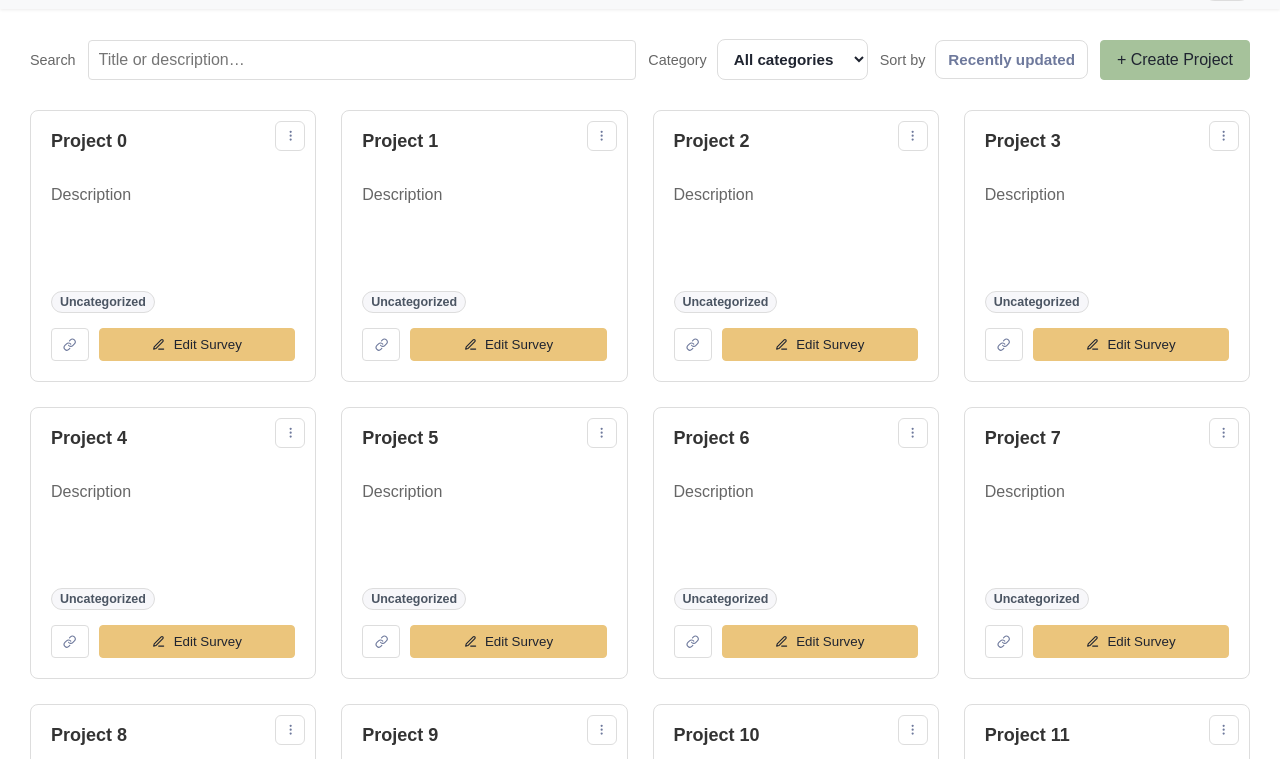
Test: designer survey quota › lets an existing admin create and clone above the limit (50 projects)
Click the button "+ Create Project": (1175, 60) [1100, 40, 1250, 80]
(page scrolled)
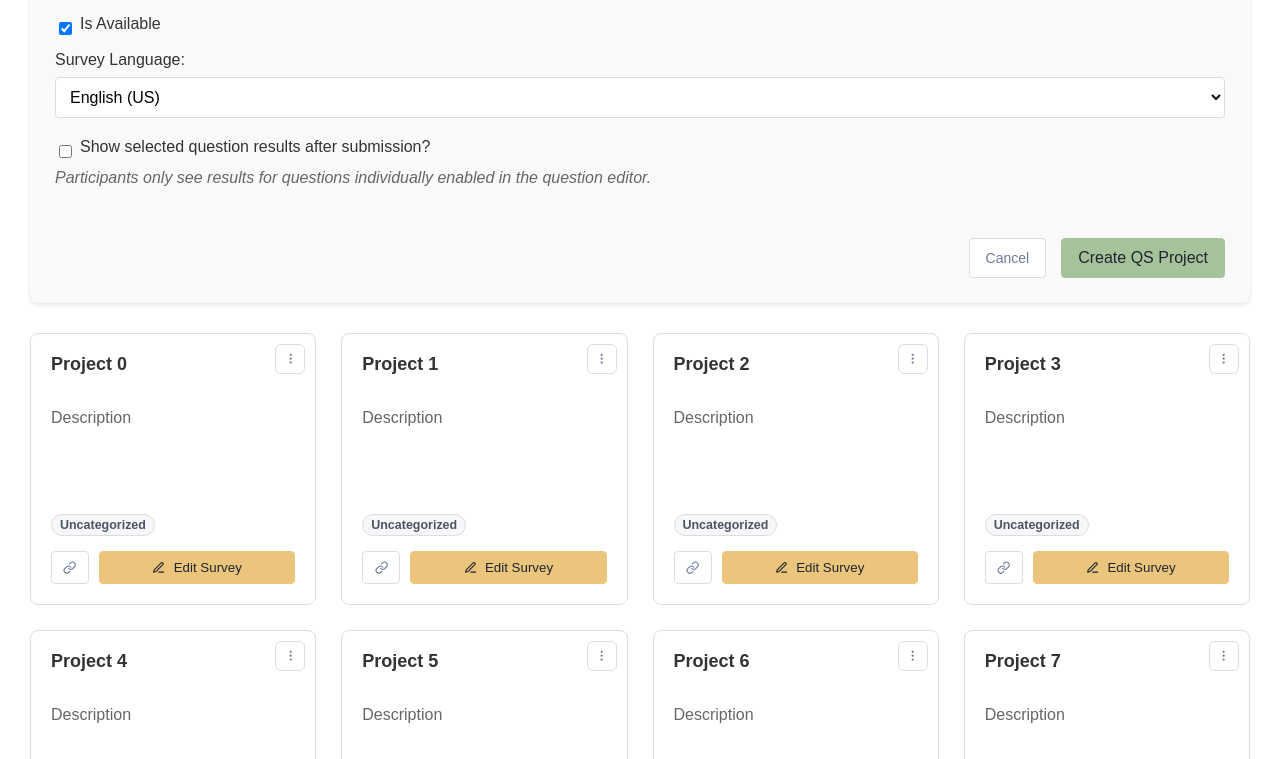
Click the button named "Project actions for Project 0": (290, 359) [275, 344, 305, 374]
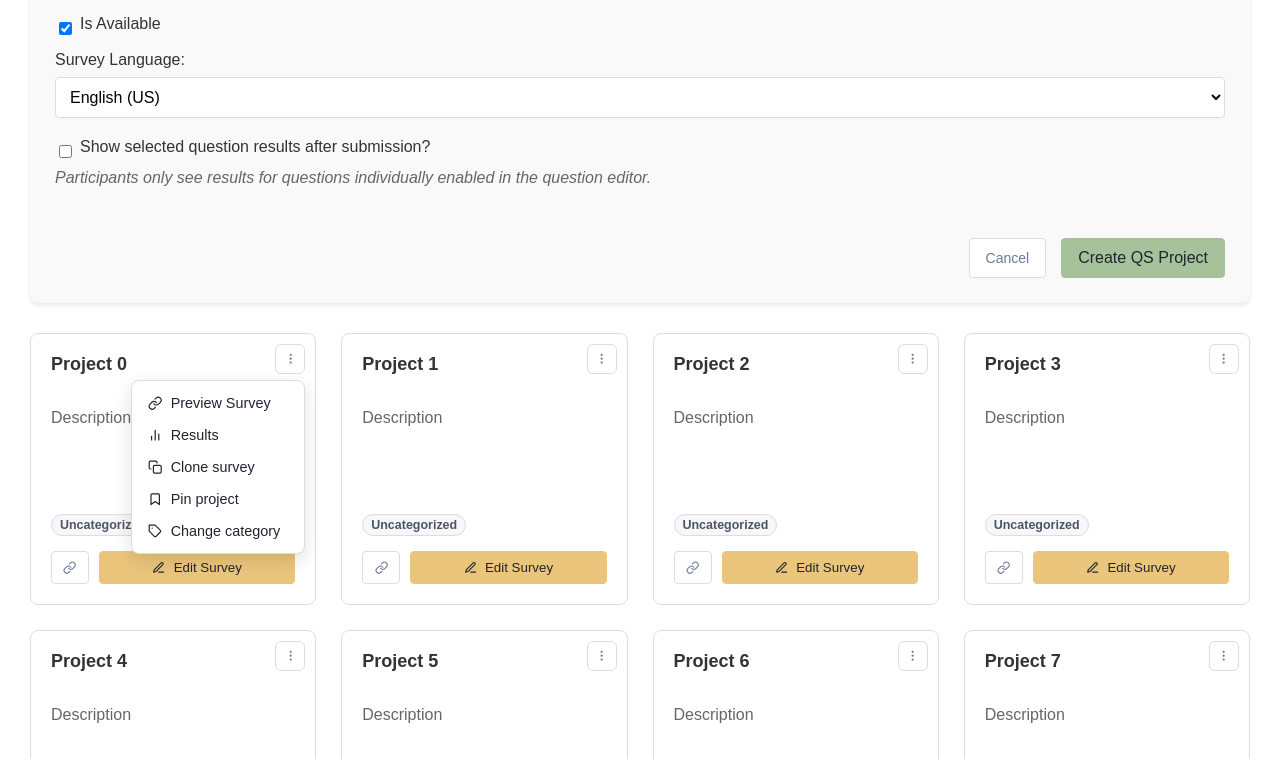
Expected: the menu item "Clone survey" is enabled, [138, 451, 298, 483]
